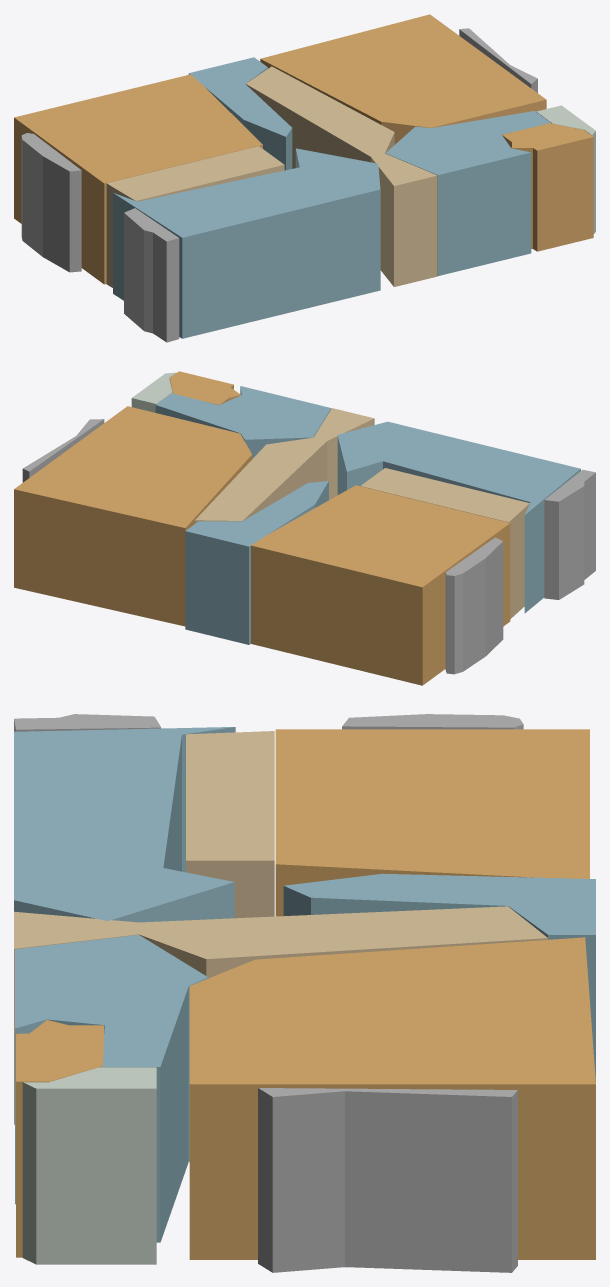
Rendered from Capture d’écran 2025-06-05 224217.obj.
The picture shows the model from 3 angles, top to bottom: view 1: azimuth 30°, elevation 25°; view 2: azimuth 150°, elevation 25°; view 3: azimuth 270°, elevation 25°; orthographic projection. The views are drawn at different scales.
Size of the model in its own units: 11.67 by 2.5 by 7.5.
